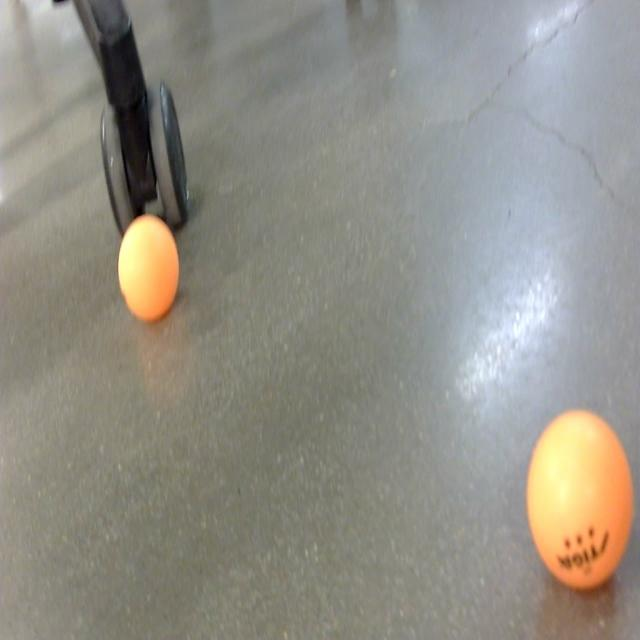ball: (524, 407, 634, 593), (115, 214, 181, 327)
